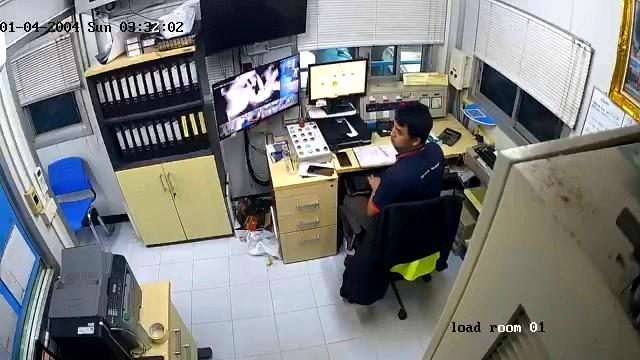Head: (390, 103, 432, 152)
People: (342, 103, 444, 237)
Phone: (307, 165, 333, 175), (336, 152, 351, 166)
